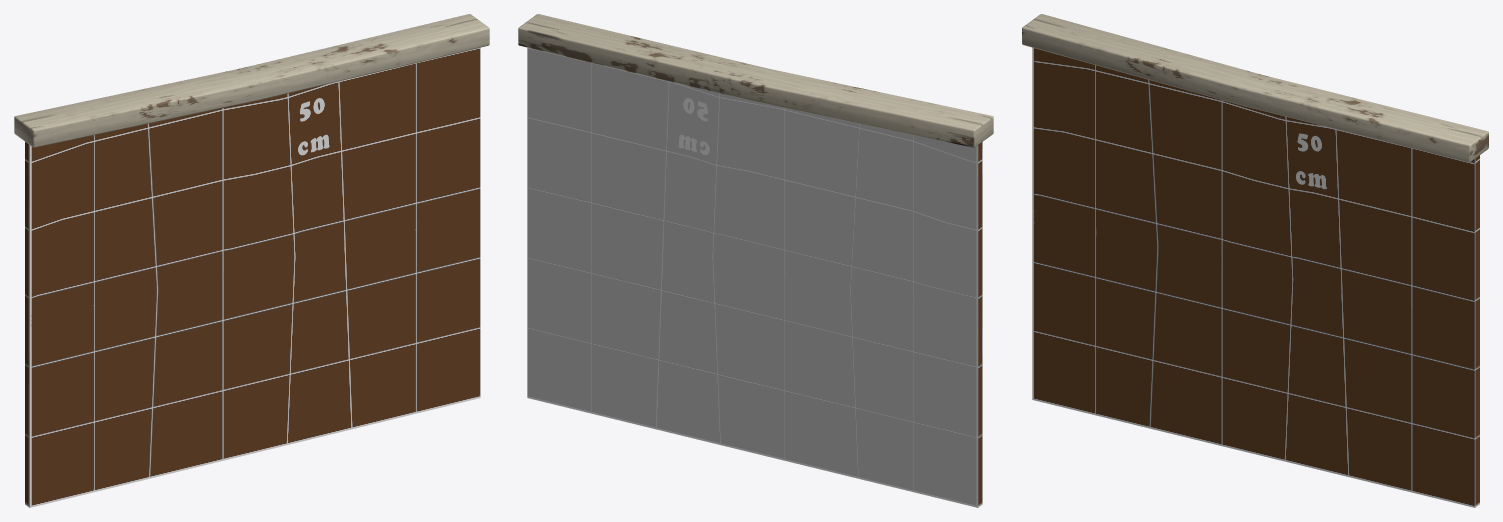
File: Hangar01P_4.FBX
3 renders of one model, left to right at view 1: azimuth 30°, elevation 25°; view 2: azimuth 150°, elevation 25°; view 3: azimuth 330°, elevation 25°, orthographic.
Visible parts, largest first — view 1: Hangar01P_4; view 2: Hangar01P_4; view 3: Hangar01P_4.
Boxes of the visible parts, <box> form: Hangar01P_4: <box>14,14,489,507</box>; Hangar01P_4: <box>518,14,993,507</box>; Hangar01P_4: <box>1022,14,1488,507</box>.
Size of what is drawn, in the model's own units: 2.65 by 2.13 by 0.2.
